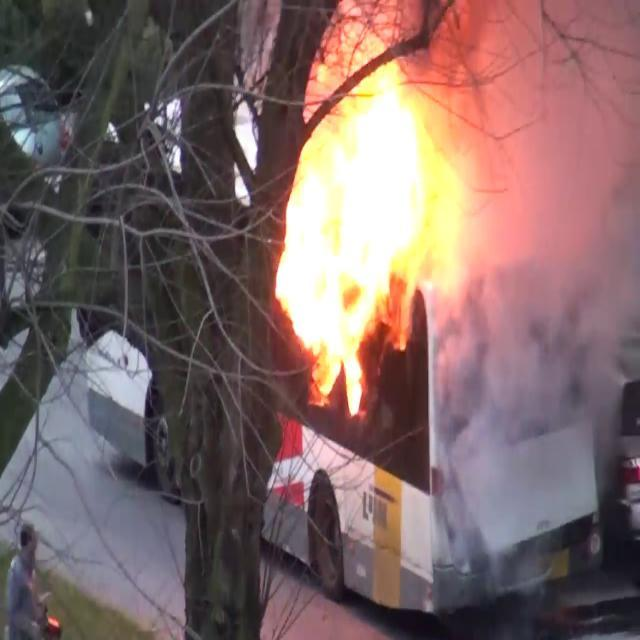Fire: (264, 42, 464, 416)
Smoke: (428, 0, 640, 574)
